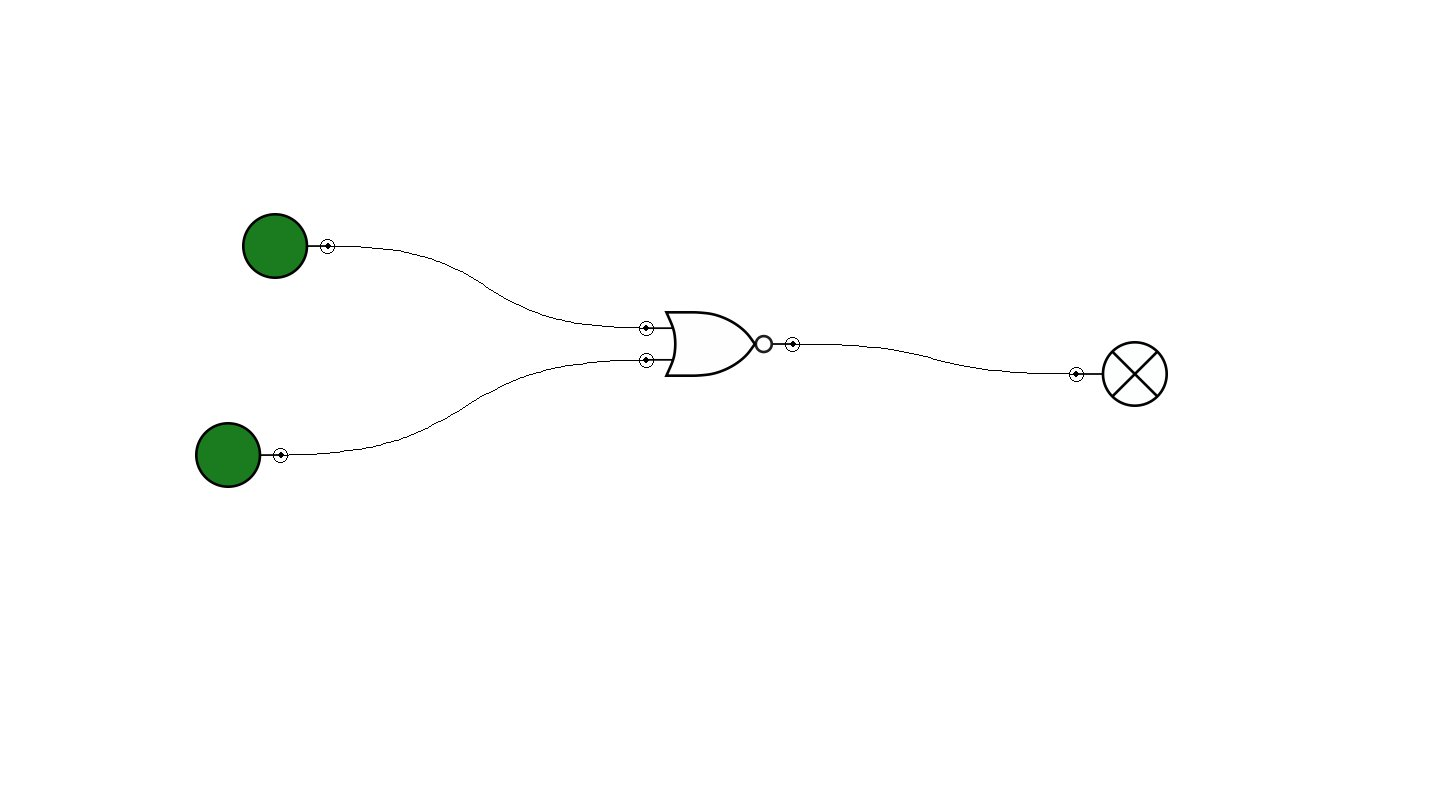bulb: (1069, 341, 1168, 407)
nor: (639, 311, 800, 377)
switch_True: (195, 422, 288, 488), (242, 213, 335, 279)
